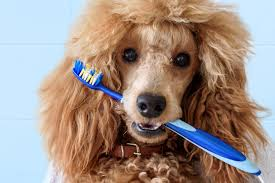dog: (40, 2, 259, 181)
